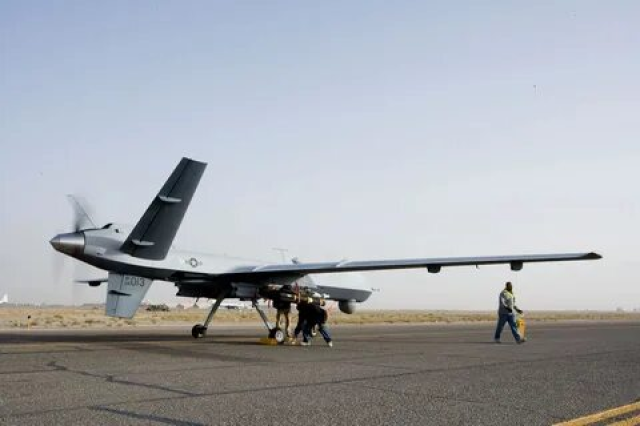military drone: (48, 156, 602, 345)
